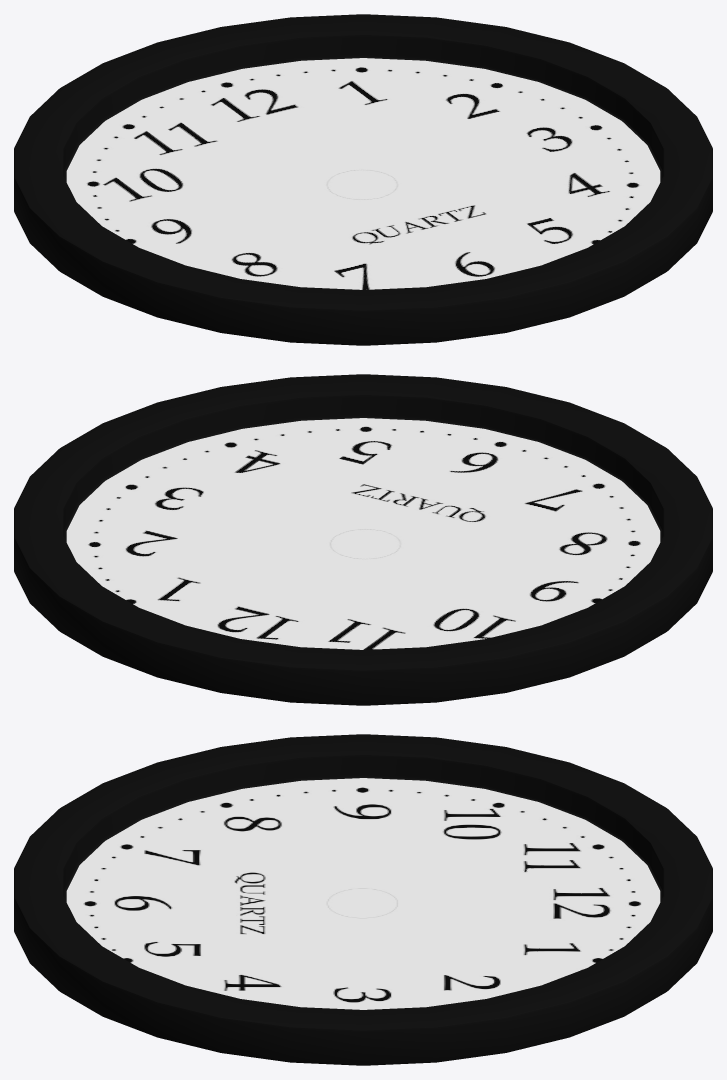
Rendered from clock.fbx.
3 views of the same model, one above another, from view 1: azimuth 30°, elevation 25°; view 2: azimuth 150°, elevation 25°; view 3: azimuth 270°, elevation 25° (orthographic).
Parts seen in each view (by area): view 1: Object001, Cylinder001; view 2: Object001, Cylinder001; view 3: Object001, Cylinder001.
Part boxes in pixels (<box>): Object001: <box>66,58,660,289</box>; Cylinder001: <box>14,14,712,345</box>; Object001: <box>66,418,660,649</box>; Cylinder001: <box>14,374,712,705</box>; Object001: <box>66,778,660,1009</box>; Cylinder001: <box>14,734,712,1065</box>.
Bounding box in the file's own units: 70 × 4 × 69.62.
2 materials, 1 textured.
